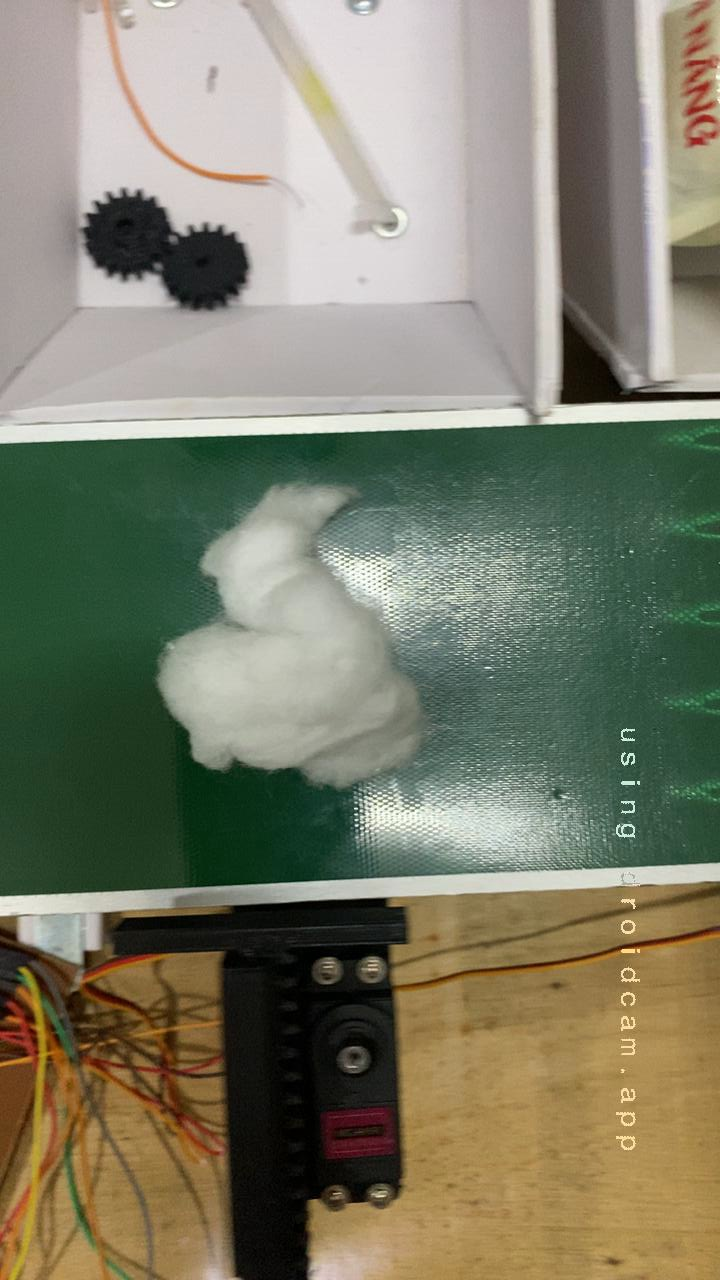cotton: (122, 457, 461, 806)
